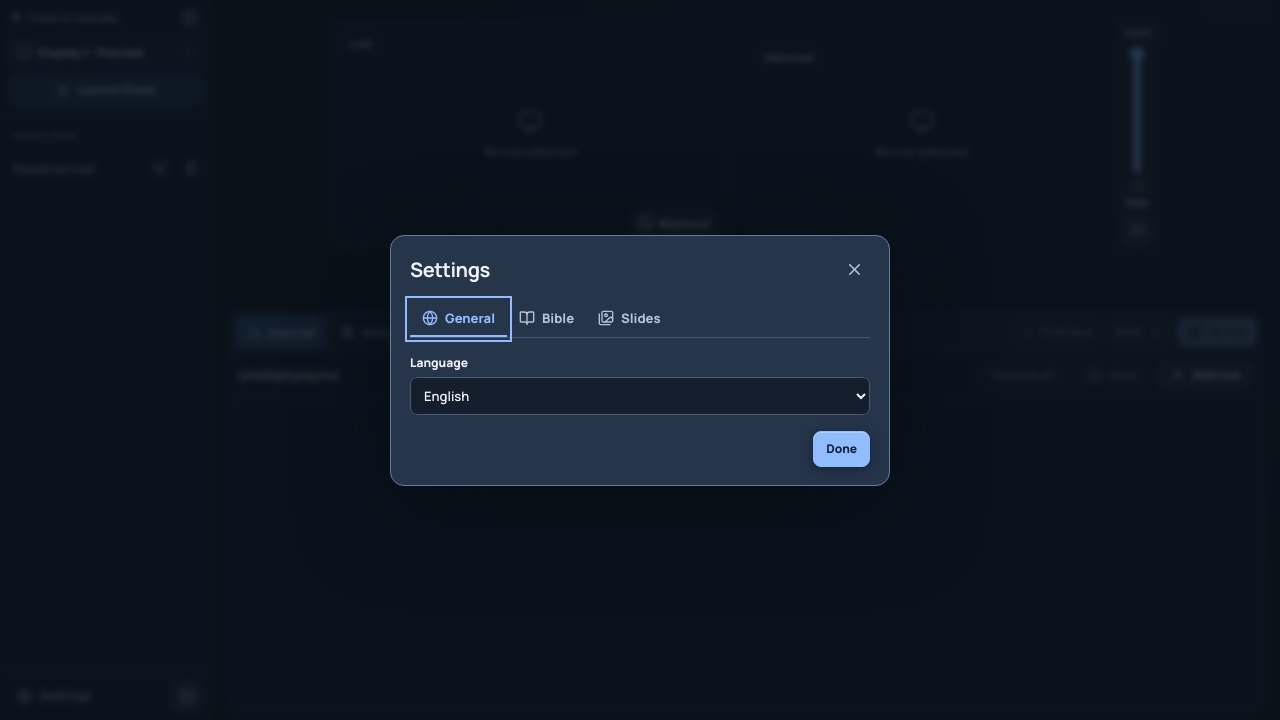
Test: supports keyboard navigation and linked panels in Settings sections
Earlier steps of the test are not shown.
Step 1. Press ArrowLeft in the tab "General", box [410,300,507,336]
Step 2. Press ArrowLeft in the tab "General", box [410,300,507,336]
Step 3. Press ArrowLeft in the tab "General", box [410,300,507,336]
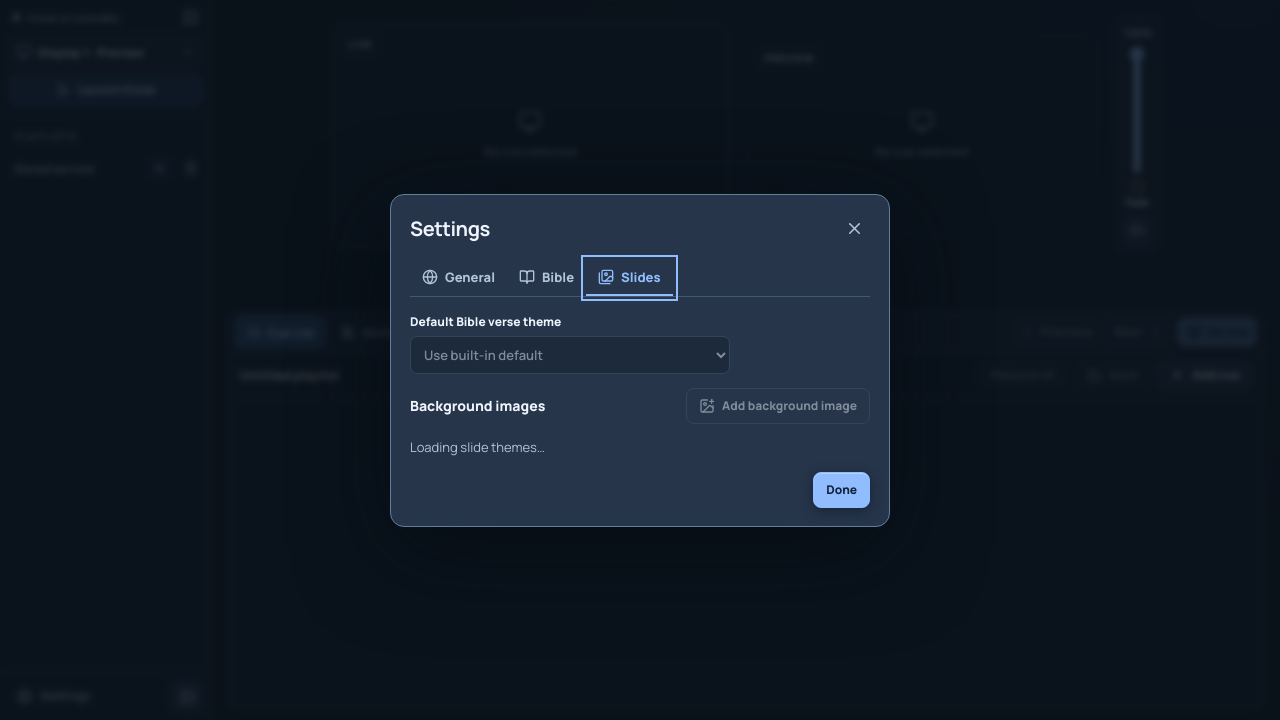
Now the tab "General" is not selected, box [410,260,507,296]
Now the tab "Slides" is selected
Step 4. Press ArrowRight in the tab "Slides", box [586,260,673,296]
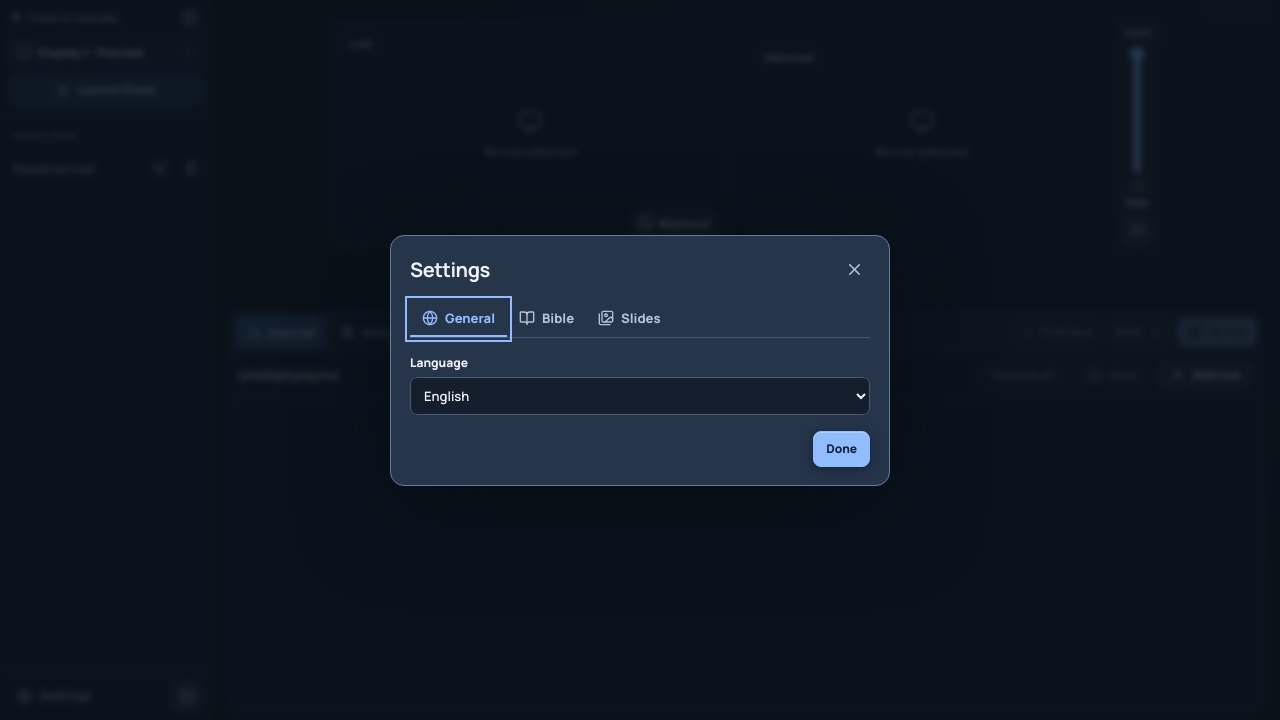
Now the tab "General" is selected
Now the tab "Slides" is not selected, box [586,300,673,336]
Step 5. Press ArrowRight in the tab "General", box [410,300,507,336]
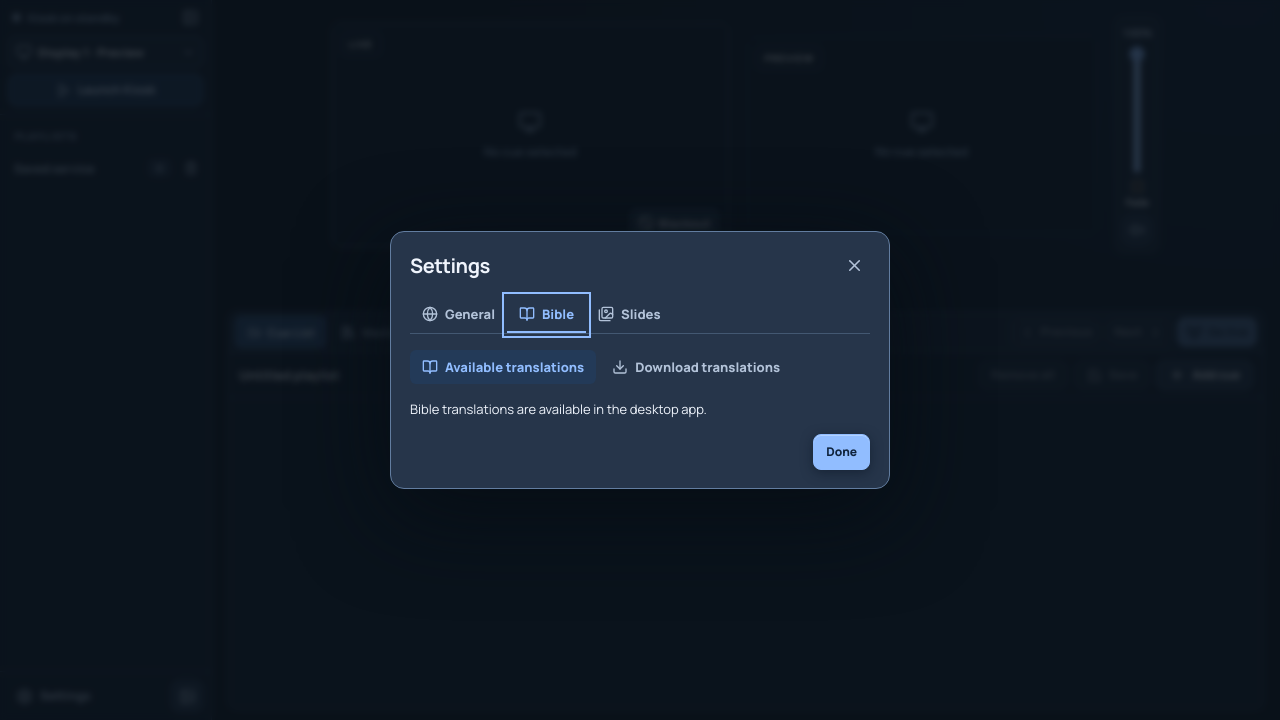
Now the tab "General" is not selected, box [410,297,507,333]
Now the tab "Bible" is selected
Now the tab "Slides" is not selected, box [586,297,673,333]
Step 6. Press End in the tab "Bible", box [507,297,586,333]
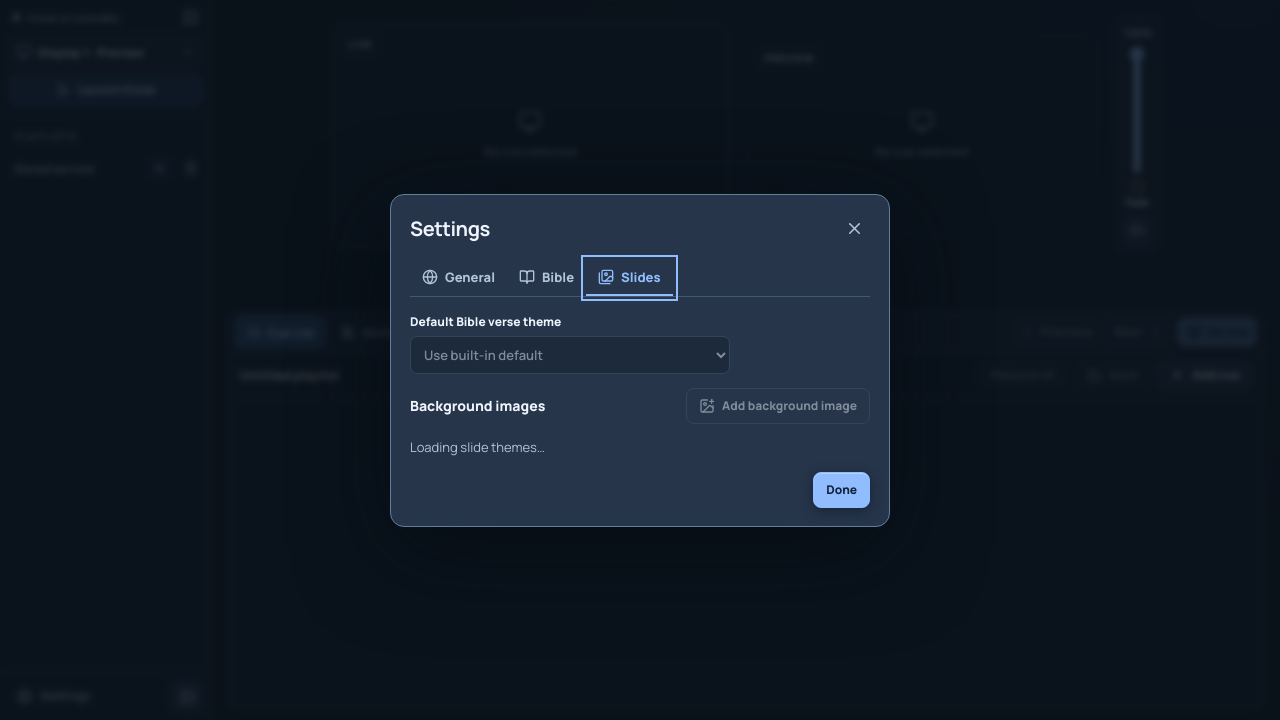
Now the tab "General" is not selected, box [410,260,507,296]
Now the tab "Bible" is not selected, box [507,260,586,296]
Now the tab "Slides" is selected
Step 7. Press Home in the tab "Slides", box [586,260,673,296]
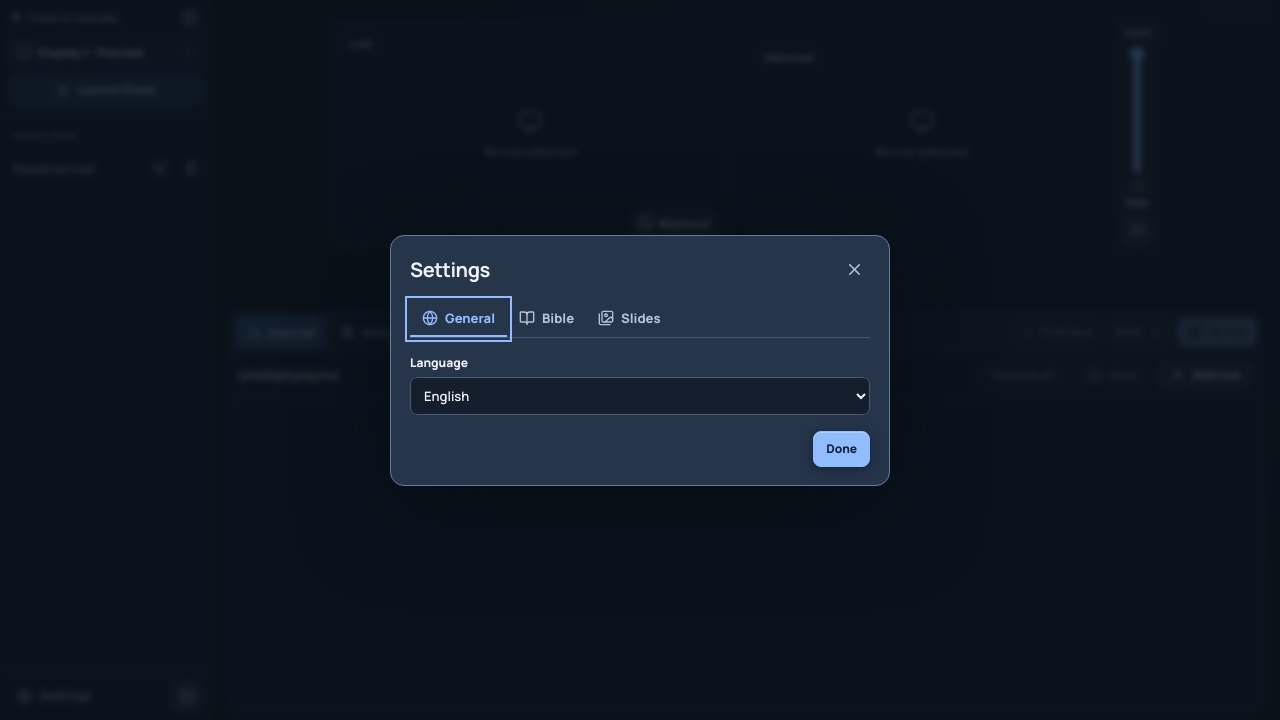
Now the tab "General" is selected, box [410,300,507,336]
Now the tab "Bible" is not selected
Now the tab "Slides" is not selected, box [586,300,673,336]
Step 8. Click the tab "Bible" → (546, 318), box [507,300,586,336]
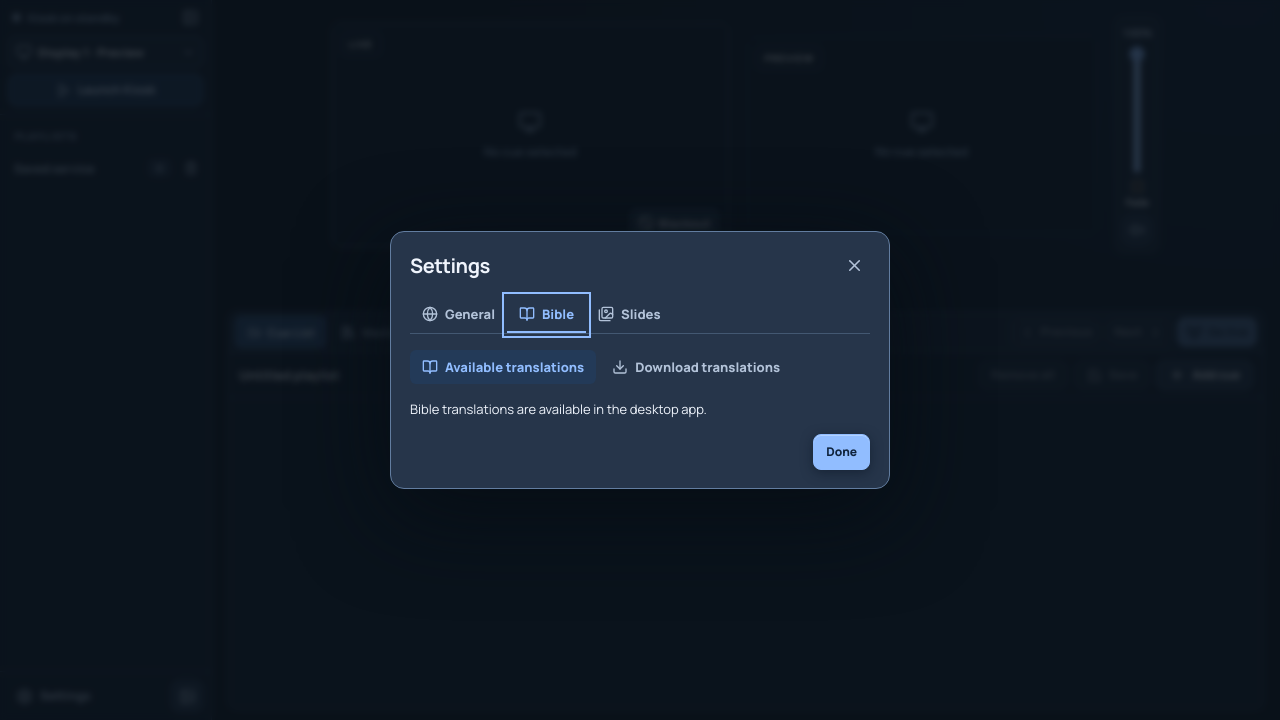
Now the tab "General" is not selected, box [410,297,507,333]
Now the tab "Bible" is selected, box [507,297,586,333]
Now the tab "Slides" is not selected, box [586,297,673,333]
